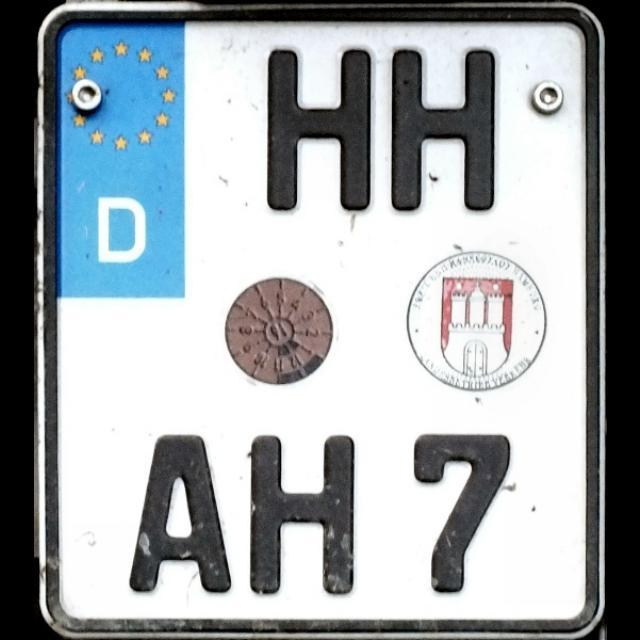license-plates: (37, 2, 605, 640)
